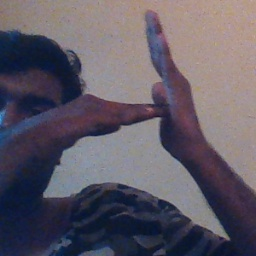Z: (93, 9, 209, 158)
